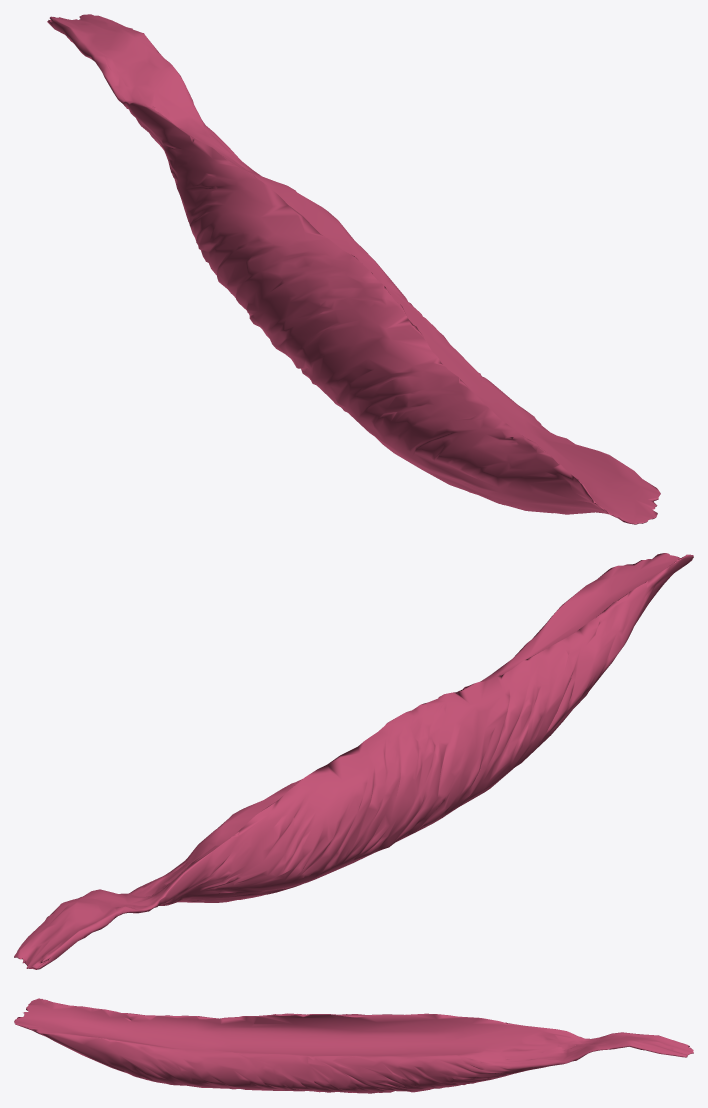
The picture shows the model from 3 angles, top to bottom: view 1: azimuth 30°, elevation 25°; view 2: azimuth 150°, elevation 25°; view 3: azimuth 270°, elevation 25°; orthographic projection. The views are drawn at different scales.
Visible parts, largest first — view 1: 右侧股中间肌; view 2: 右侧股中间肌; view 3: 右侧股中间肌.
Part boxes in pixels (<box>): 右侧股中间肌: <box>47,14,660,524</box>; 右侧股中间肌: <box>14,553,693,969</box>; 右侧股中间肌: <box>14,998,693,1093</box>.
Size of the model in its own units: 0.0834 by 0.0704 by 0.6017.
